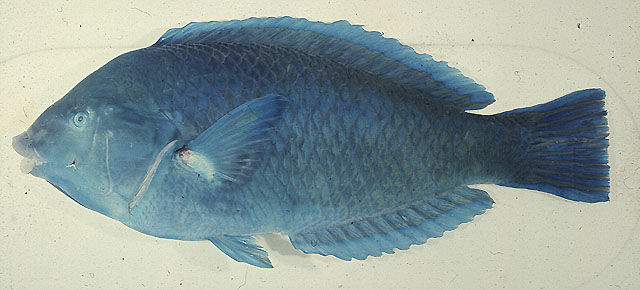fish: (13, 18, 613, 268)
